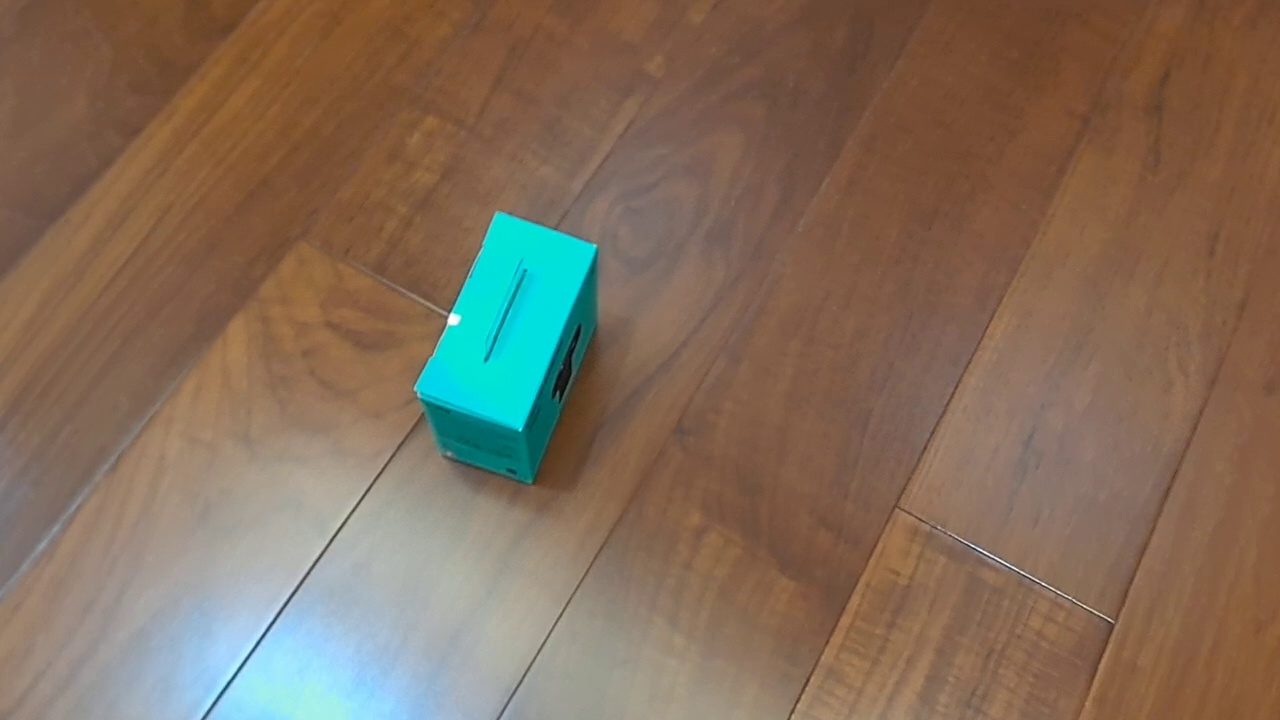webcam: (412, 209, 599, 486)
